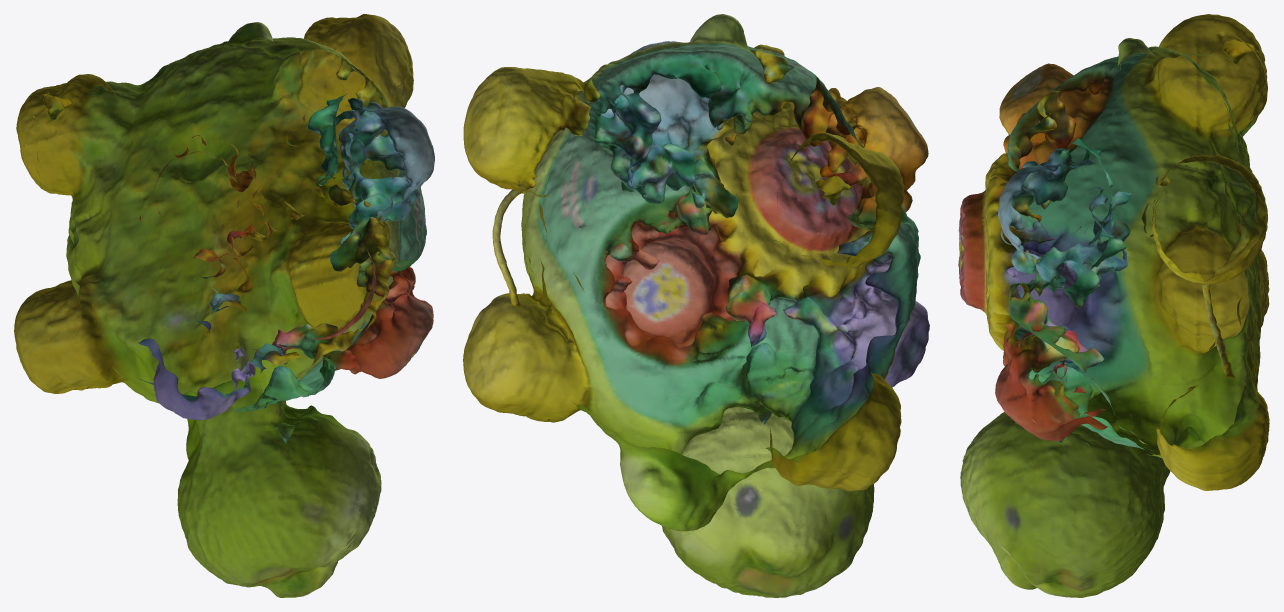
The model's file is turtle.glb.
3 views of the same model, side by side, from view 1: azimuth 30°, elevation 25°; view 2: azimuth 150°, elevation 25°; view 3: azimuth 270°, elevation 25° (orthographic). The views are drawn at different scales.
Bounding box in the file's own units: 0.7281 × 1 × 0.5124.
